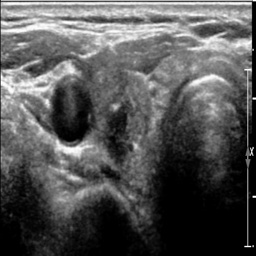mass: (102, 100, 133, 158)
